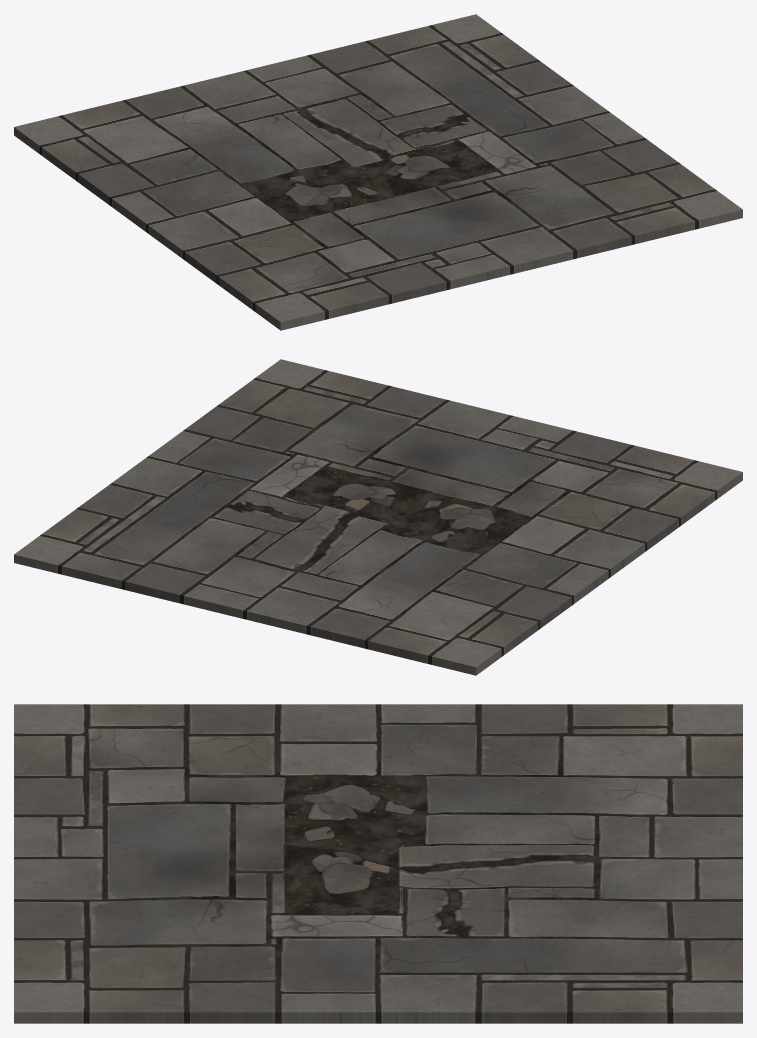
The model's file is floor_b.glb.
3 views of the same model, one above another, from view 1: azimuth 30°, elevation 25°; view 2: azimuth 150°, elevation 25°; view 3: azimuth 270°, elevation 25° (orthographic). The views are drawn at different scales.
Visible parts, largest first — view 1: floor_b; view 2: floor_b; view 3: floor_b.
Part boxes in pixels (x1=…): floor_b: x1=14, y1=14, x2=742, y2=330; floor_b: x1=14, y1=359, x2=742, y2=675; floor_b: x1=14, y1=704, x2=742, y2=1023.
Size of the model in its own units: 4 by 0.11 by 4.
1 material, 1 textured.
